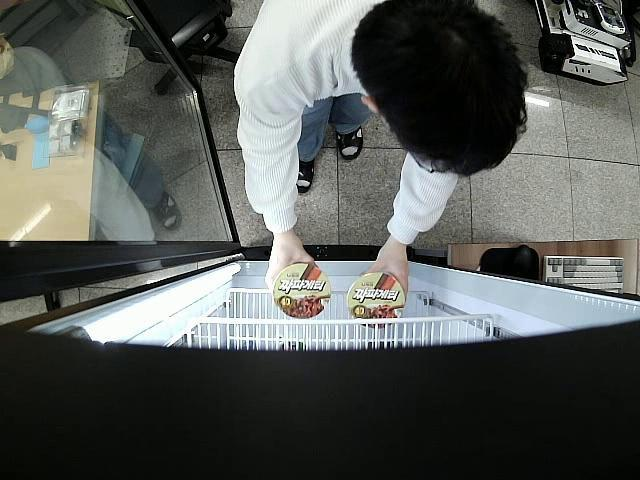03_chapagetti_L: (272, 262, 331, 320), (346, 274, 406, 328)
